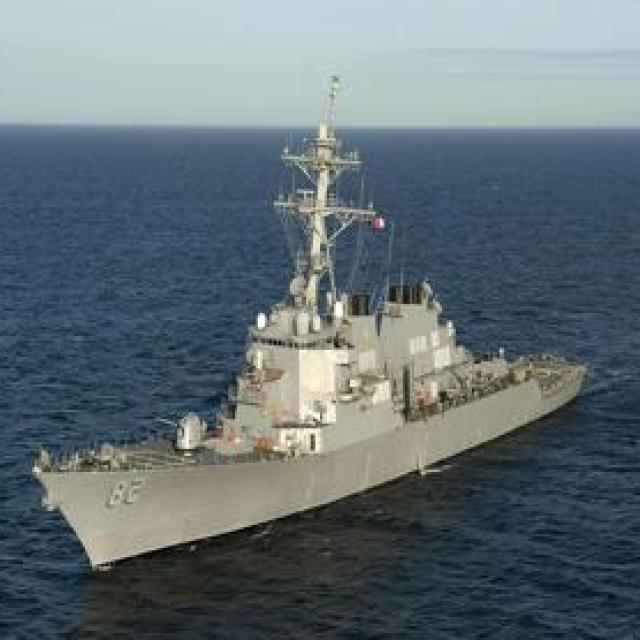navalvessels: (34, 77, 594, 577)
